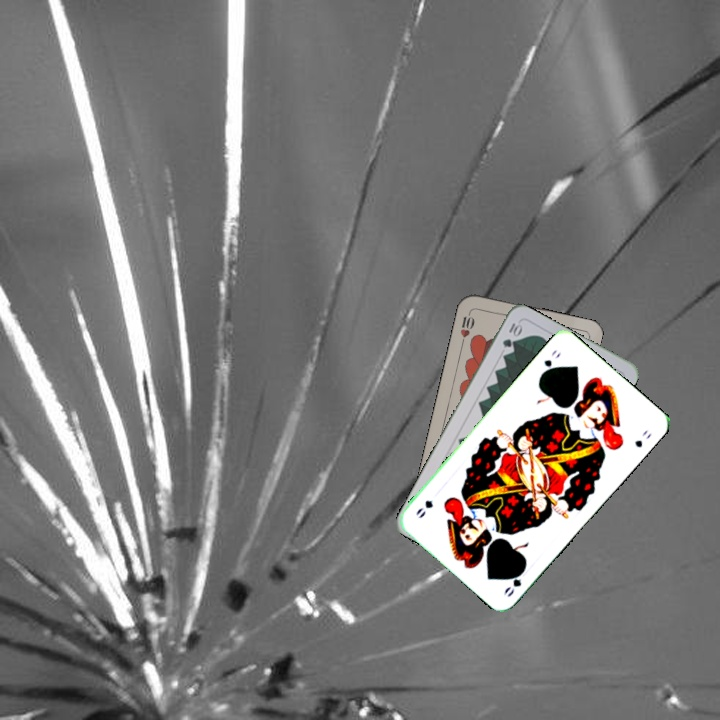G10: (498, 318, 524, 351)
GO: (500, 563, 529, 600), (537, 346, 564, 379)
H10: (456, 306, 477, 346)
